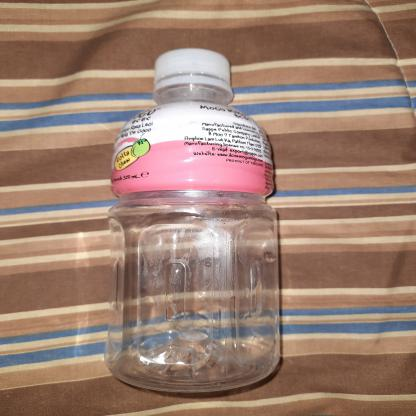bottle: (101, 47, 286, 398)
